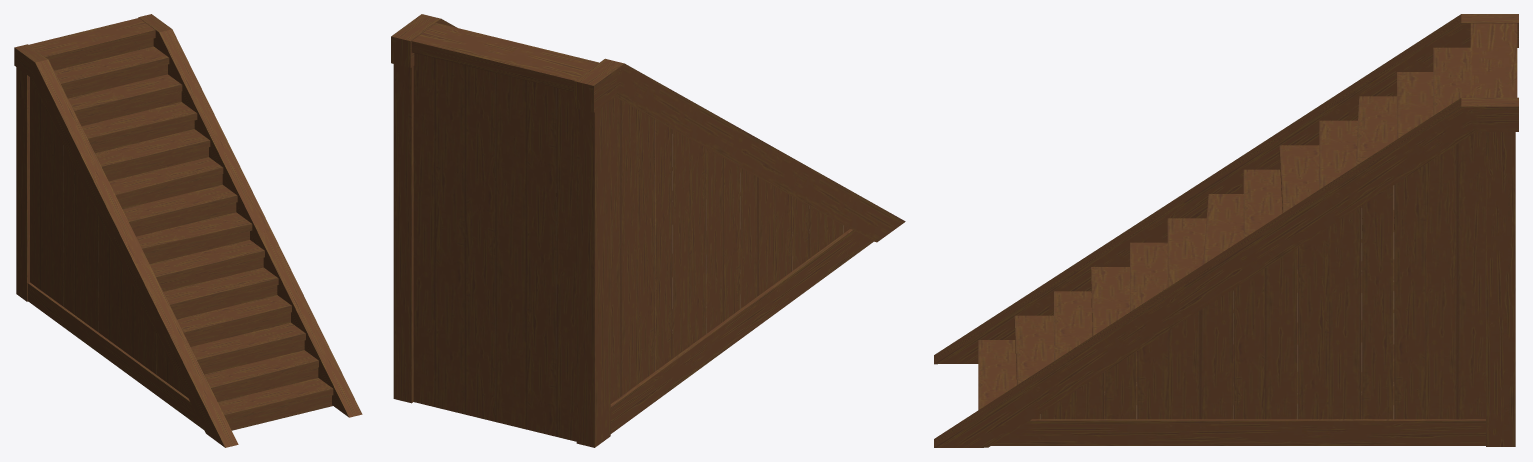
The model's file is Stair_Interior_Solid.gltf.
3 views of the same model, side by side, from view 1: azimuth 30°, elevation 25°; view 2: azimuth 150°, elevation 25°; view 3: azimuth 270°, elevation 25° (orthographic). The views are drawn at different scales.
Visible parts, largest first — view 1: Stair_Interior_Solid; view 2: Stair_Interior_Solid; view 3: Stair_Interior_Solid.
Part boxes in pixels (bbox=[...]): Stair_Interior_Solid: bbox=[14, 14, 362, 447]; Stair_Interior_Solid: bbox=[391, 14, 905, 447]; Stair_Interior_Solid: bbox=[934, 14, 1518, 447].
Size of the model in its own units: 1.77 by 3.05 by 4.71.
Materials: 1 (1 with a texture image).
